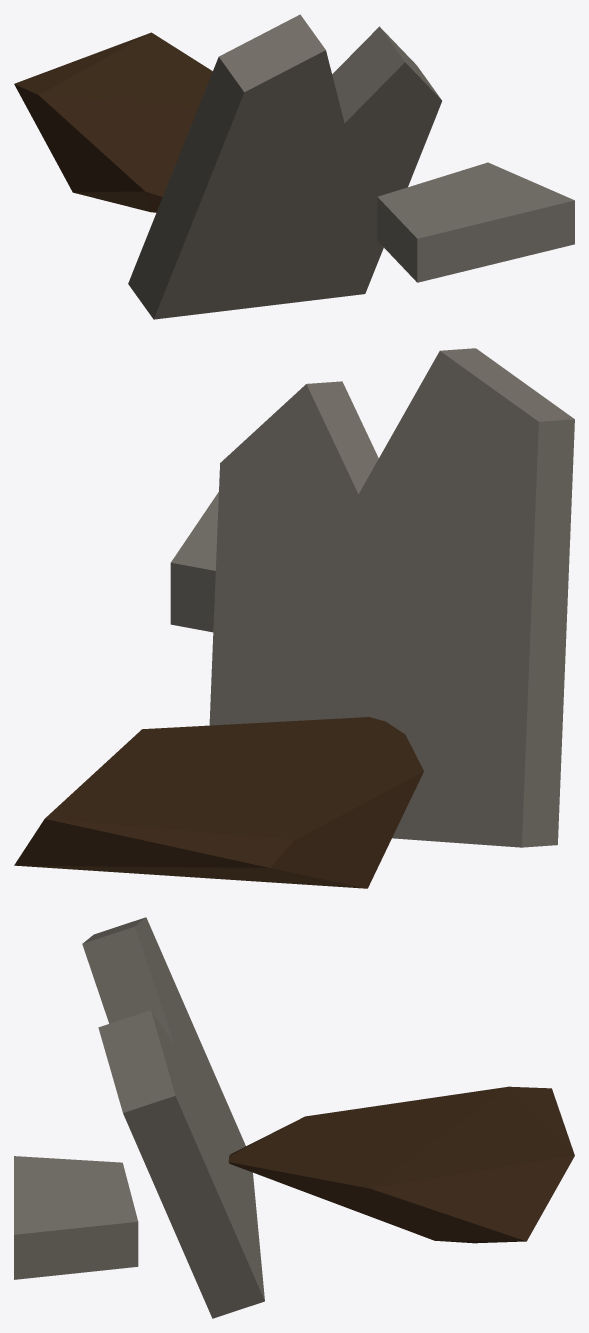
The model's file is lapida_rota.fbx.
The picture shows the model from 3 angles, top to bottom: view 1: azimuth 30°, elevation 25°; view 2: azimuth 150°, elevation 25°; view 3: azimuth 270°, elevation 25°; orthographic projection. The views are drawn at different scales.
Parts seen in each view (by area): view 1: lapida_rota; view 2: lapida_rota; view 3: lapida_rota.
Boxes of the visible parts, x1,y1,x2,y2 form: lapida_rota: [14, 14, 574, 319]; lapida_rota: [14, 348, 574, 888]; lapida_rota: [14, 917, 574, 1318].
Bounding box in the file's own units: 1.26 × 1.21 × 1.81.
